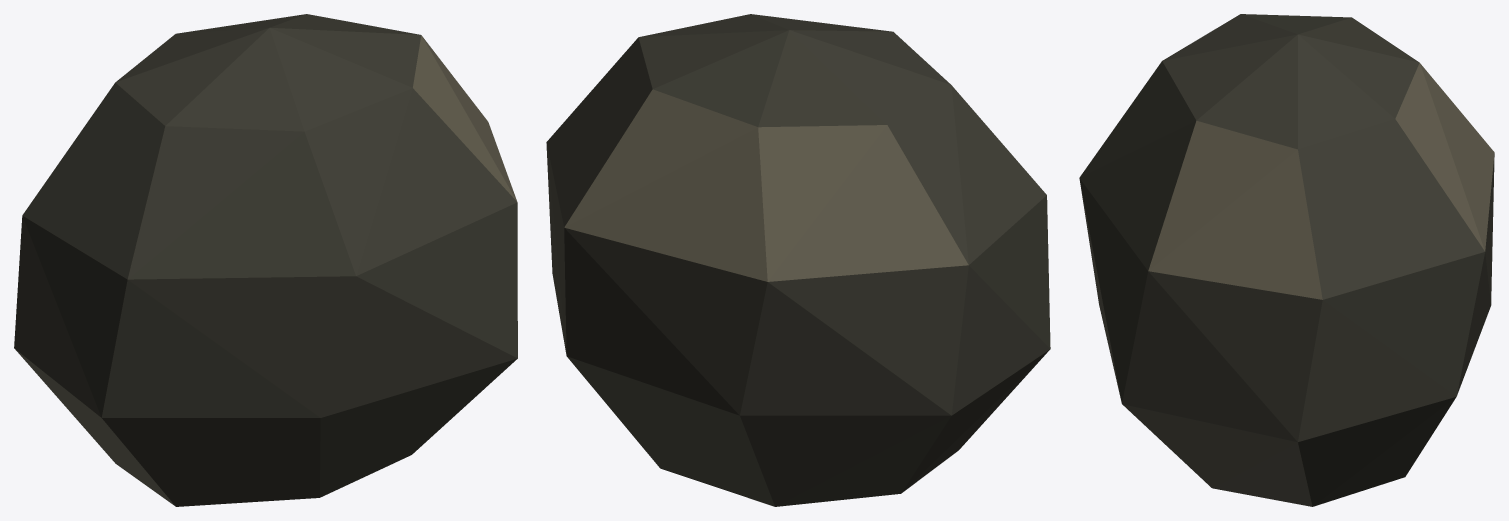
Rendered from Rock_Boulder_02.fbx.
3 views of the same model, side by side, from view 1: azimuth 30°, elevation 25°; view 2: azimuth 150°, elevation 25°; view 3: azimuth 270°, elevation 25° (orthographic). The views are drawn at different scales.
Parts seen in each view (by area): view 1: Rock_Boulder_02_Mesh; view 2: Rock_Boulder_02_Mesh; view 3: Rock_Boulder_02_Mesh.
Part boxes in pixels (<box>): Rock_Boulder_02_Mesh: <box>14,14,517,506</box>; Rock_Boulder_02_Mesh: <box>546,14,1050,506</box>; Rock_Boulder_02_Mesh: <box>1079,14,1494,506</box>.
Size of the model in its own units: 2.15 by 2.1 by 1.76.
Materials: 1 (1 with a texture image).
